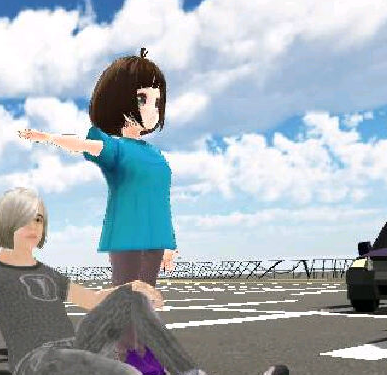doubleP_left: (1, 46, 205, 375)
